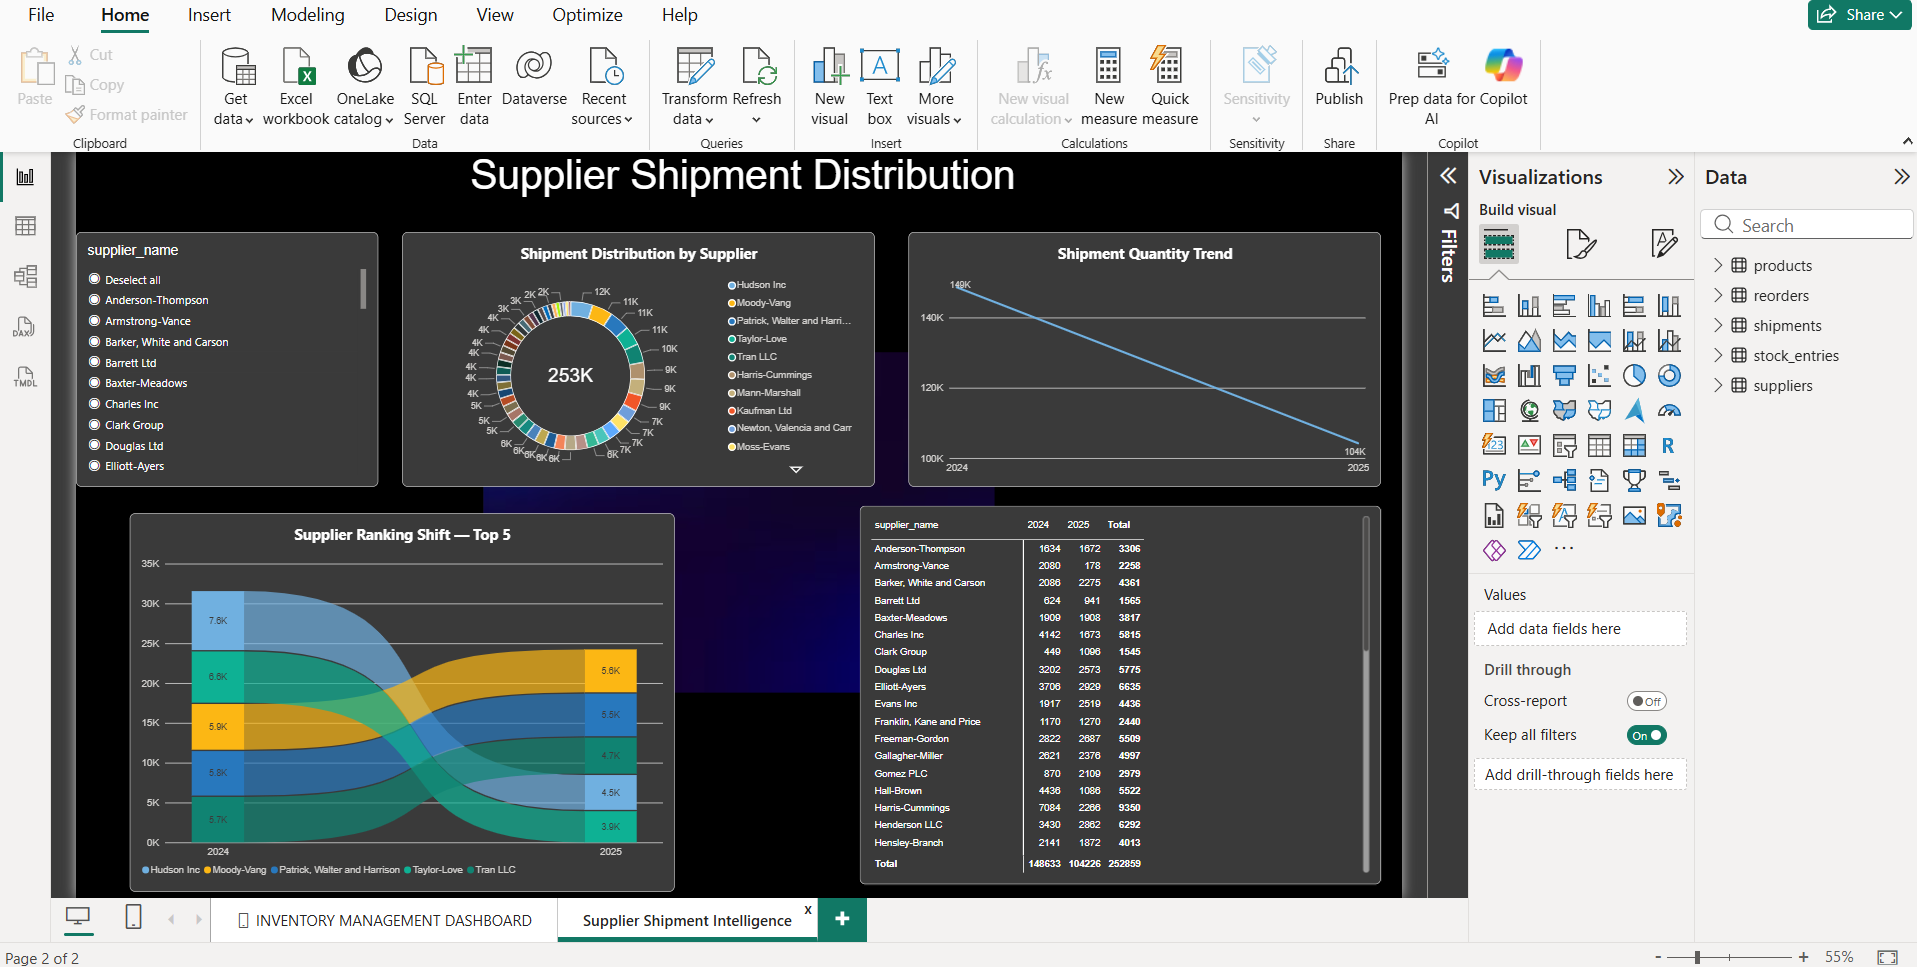

This screenshot's page, from the dashboard's own definition file:
{"tool":"powerbi","page":{"name":"Supplier Shipment Intelligence","canvas":[1920,1080],"ordinal":1},"visuals":[{"type":"textbox","box":[10.9,0,1909.2,79.6],"z":0},{"type":"listSlicer","fields":{"Values":["suppliers.supplier_name"]},"box":[0,115.8,437.9,369.2],"z":1},{"type":"donutChart","title":"Shipment Distribution by Supplier","fields":{"Category":["suppliers.supplier_name"],"Y":["Sum(shipments.quantity_received)"]},"box":[472.3,115.8,684.1,369.2],"z":2},{"type":"lineChart","title":"Shipment Quantity Trend","fields":{"Category":["shipments.shipment_date.Variation.Date Hierarchy.Year","shipments.shipment_date.Variation.Date Hierarchy.Quarter","shipments.shipment_date.Variation.Date Hierarchy.Month","shipments.shipment_date.Variation.Date Hierarchy.Day"],"Y":["Sum(shipments.quantity_received)"]},"box":[1205.2,115.8,684.1,369.2],"z":3},{"type":"ribbonChart","title":"Supplier Ranking Shift — Top 5","fields":{"Category":["shipments.shipment_date.Variation.Date Hierarchy.Year","shipments.shipment_date.Variation.Date Hierarchy.Quarter","shipments.shipment_date.Variation.Date Hierarchy.Month","shipments.shipment_date.Variation.Date Hierarchy.Day"],"Series":["suppliers.supplier_name"],"Y":["Sum(shipments.quantity_received)"]},"box":[77.8,523,789,548.3],"z":4},{"type":"pivotTable","fields":{"Columns":["shipments.shipment_date.Variation.Date Hierarchy.Year"],"Rows":["suppliers.supplier_name"],"Values":["Sum(shipments.quantity_received)"]},"box":[1134.7,512.1,754.6,548.3],"z":5}]}

Visuals, with their boxes on the page's 1920x1080 design canvas (x1, y1, x2, y2). These are canvas units, not pixel positions in the 1917x967 screenshot, which may show the page scaled, cropped or inside an application window:
textbox: [x1=11, y1=0, x2=1920, y2=80]
listSlicer - suppliers.supplier_name: [x1=0, y1=116, x2=438, y2=485]
"Shipment Distribution by Supplier" donutChart: [x1=472, y1=116, x2=1156, y2=485]
"Shipment Quantity Trend" lineChart: [x1=1205, y1=116, x2=1889, y2=485]
"Supplier Ranking Shift — Top 5" ribbonChart: [x1=78, y1=523, x2=867, y2=1071]
pivotTable - shipments.shipment_date.Variation.Date Hierarchy.Year x suppliers.supplier_name: [x1=1135, y1=512, x2=1889, y2=1060]
